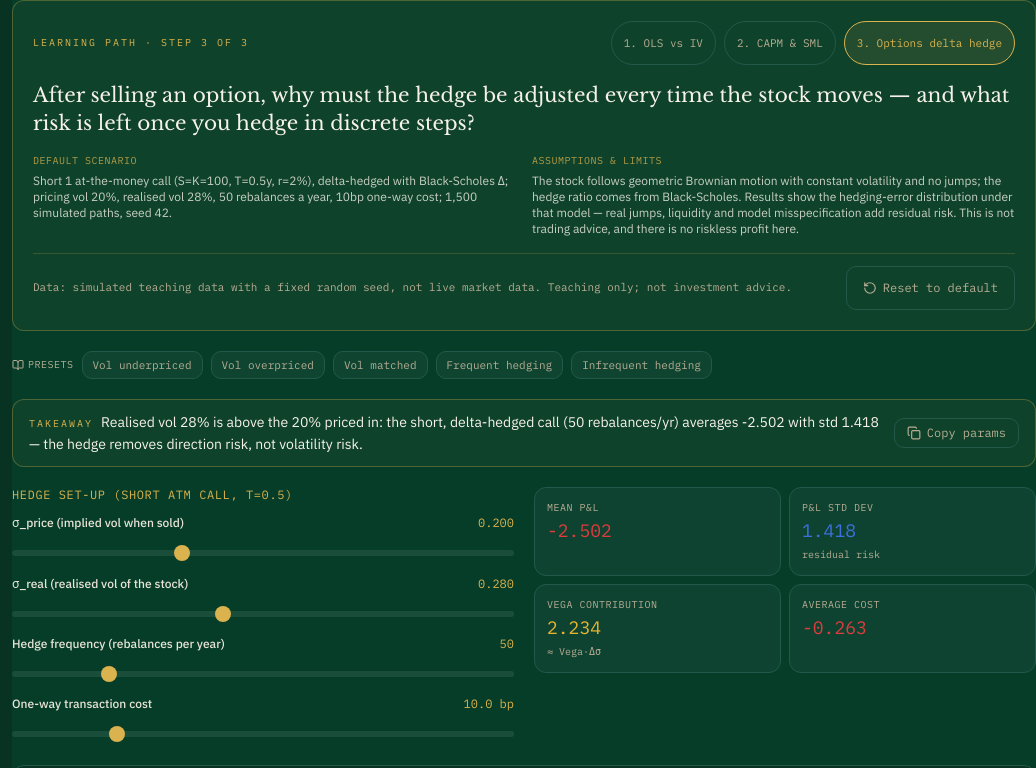
Test: path controls after the polish pass › the intro Reset restores the default scenario, same as the check Reset
The image size is (1036, 768).
Set the slider named "σ_real (realised vol of the stock)" to "0.05" at [20, 614], box [12, 610, 514, 616]
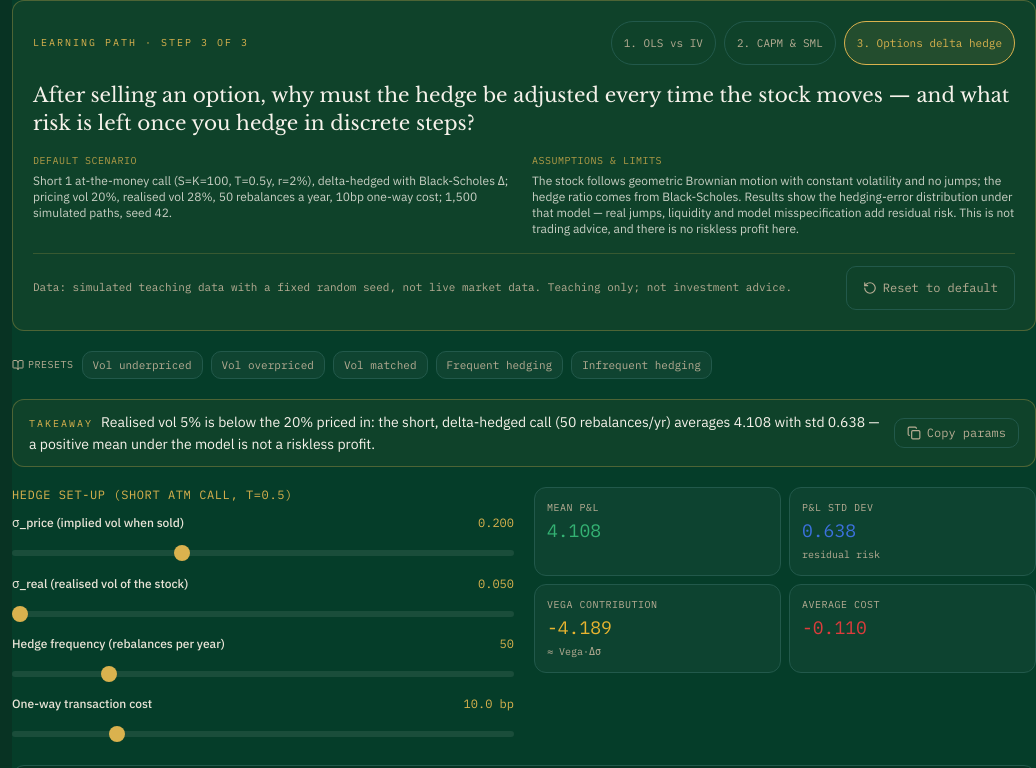
Click the button with test id "path-reset" at [930, 288], box [846, 266, 1015, 310]
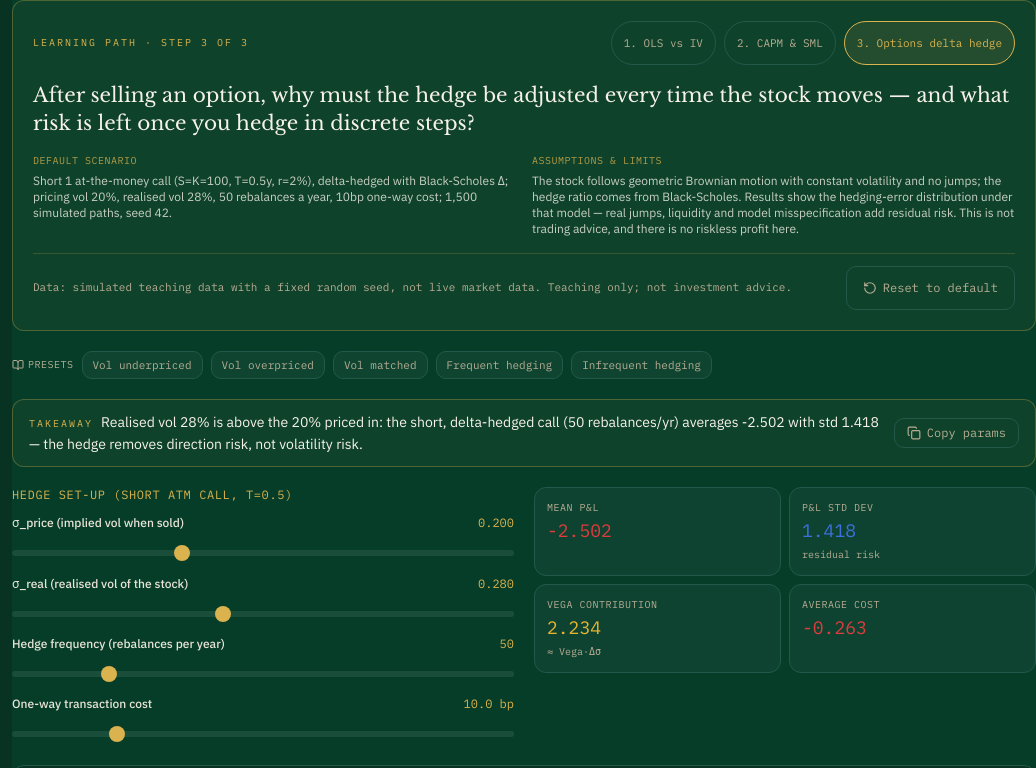
Expected: the slider named "σ_real (realised vol of the stock)" holds "0.28", [12, 610, 514, 616]
